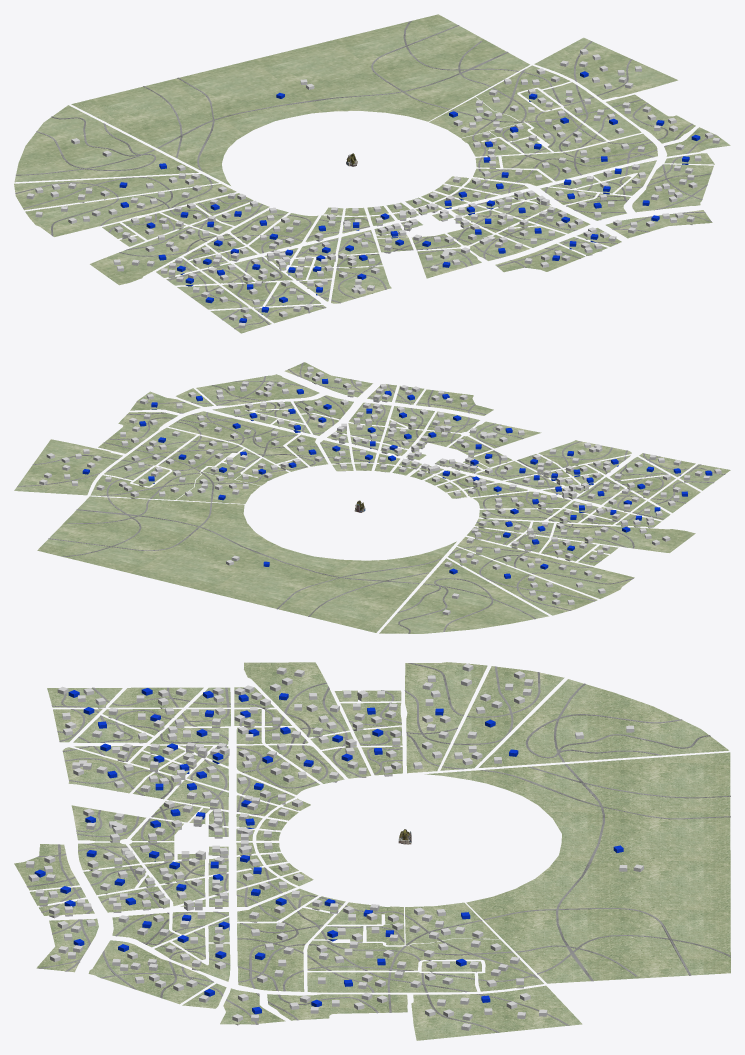
File: housesOfGod.glb
3 renders of one model, top to bottom at view 1: azimuth 30°, elevation 25°; view 2: azimuth 150°, elevation 25°; view 3: azimuth 270°, elevation 25°, orthographic. The views are drawn at different scales.
Parts seen in each view (by area): view 1: ground_housesOfGod_81, ground_housesOfGod_82, ground_housesOfGod_93, ground_housesOfGod_49, ground_housesOfGod_76, ground_housesOfGod_48, ground_housesOfGod_68, ground_housesOfGod_53, ground_housesOfGod_83, ground_housesOfGod_78, streets_housesOfGod_81, ground_housesOfGod_92 (+27 smaller); view 2: ground_housesOfGod_81, ground_housesOfGod_82, ground_housesOfGod_93, ground_housesOfGod_49, ground_housesOfGod_76, ground_housesOfGod_48, ground_housesOfGod_68, ground_housesOfGod_53, ground_housesOfGod_83, streets_housesOfGod_81, ground_housesOfGod_78, ground_housesOfGod_92 (+26 smaller); view 3: ground_housesOfGod_81, ground_housesOfGod_82, ground_housesOfGod_93, ground_housesOfGod_49, ground_housesOfGod_76, ground_housesOfGod_48, ground_housesOfGod_68, ground_housesOfGod_53, ground_housesOfGod_83, ground_housesOfGod_78, streets_housesOfGod_81, ground_housesOfGod_92 (+34 smaller).
Part boxes in pixels (x1,y1,x2,y2): ground_housesOfGod_81: (71, 14, 529, 185); ground_housesOfGod_82: (14, 105, 198, 182); ground_housesOfGod_93: (534, 37, 677, 99); ground_housesOfGod_49: (25, 184, 236, 236); ground_housesOfGod_76: (476, 65, 606, 151); ground_housesOfGod_48: (14, 174, 218, 210); ground_housesOfGod_68: (501, 133, 657, 181); ground_housesOfGod_53: (90, 226, 216, 285); ground_housesOfGod_83: (632, 164, 713, 212); ground_housesOfGod_78: (543, 82, 641, 140); streets_housesOfGod_81: (143, 21, 518, 170); ground_housesOfGod_92: (606, 94, 695, 143); ground_housesOfGod_81: (37, 496, 456, 632); ground_housesOfGod_82: (379, 558, 548, 633); ground_housesOfGod_93: (14, 439, 122, 495); ground_housesOfGod_49: (457, 537, 634, 598); ground_housesOfGod_76: (90, 435, 243, 499); ground_housesOfGod_48: (448, 547, 597, 615); ground_housesOfGod_68: (168, 411, 298, 463); ground_housesOfGod_53: (552, 523, 695, 552); ground_housesOfGod_83: (196, 374, 319, 405); streets_housesOfGod_81: (48, 497, 441, 616); ground_housesOfGod_78: (104, 427, 196, 480); ground_housesOfGod_92: (98, 412, 177, 453); ground_housesOfGod_81: (424, 752, 730, 983); ground_housesOfGod_82: (479, 679, 728, 767); ground_housesOfGod_93: (411, 985, 582, 1040); ground_housesOfGod_49: (405, 662, 487, 773); ground_housesOfGod_76: (307, 939, 543, 991); ground_housesOfGod_48: (440, 666, 564, 770); ground_housesOfGod_68: (237, 908, 333, 991); ground_housesOfGod_53: (244, 662, 349, 737); ground_housesOfGod_83: (88, 940, 213, 1004); ground_housesOfGod_78: (307, 972, 477, 992); streets_housesOfGod_81: (480, 764, 730, 981); ground_housesOfGod_92: (267, 994, 407, 1020).
Size of the model in its own units: 11.64 by 0.2584 by 9.31.
15 materials, 14 textured.
